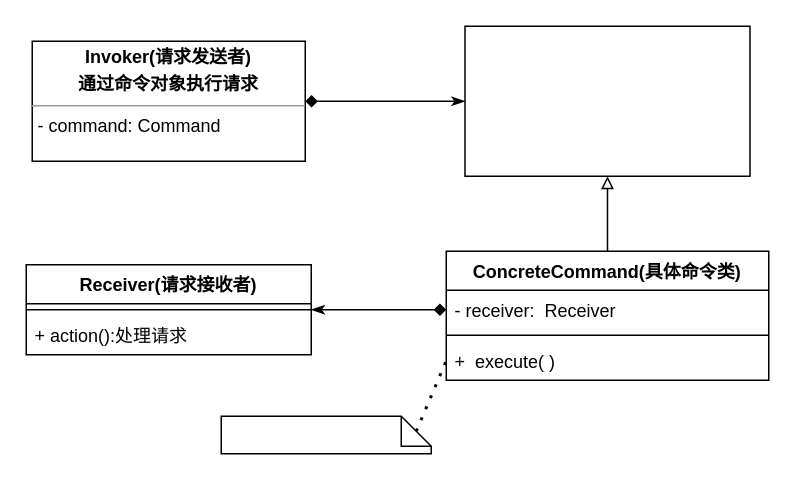
The diagram is 795 pixels wide and 480 high, and some of its shapes have lost their labels. Each missing label, with the centre of its shape:
<<Interface>> Command(抽象命令类) + execute( ): the point at 607,100
receiver.action(): the point at 325,434
